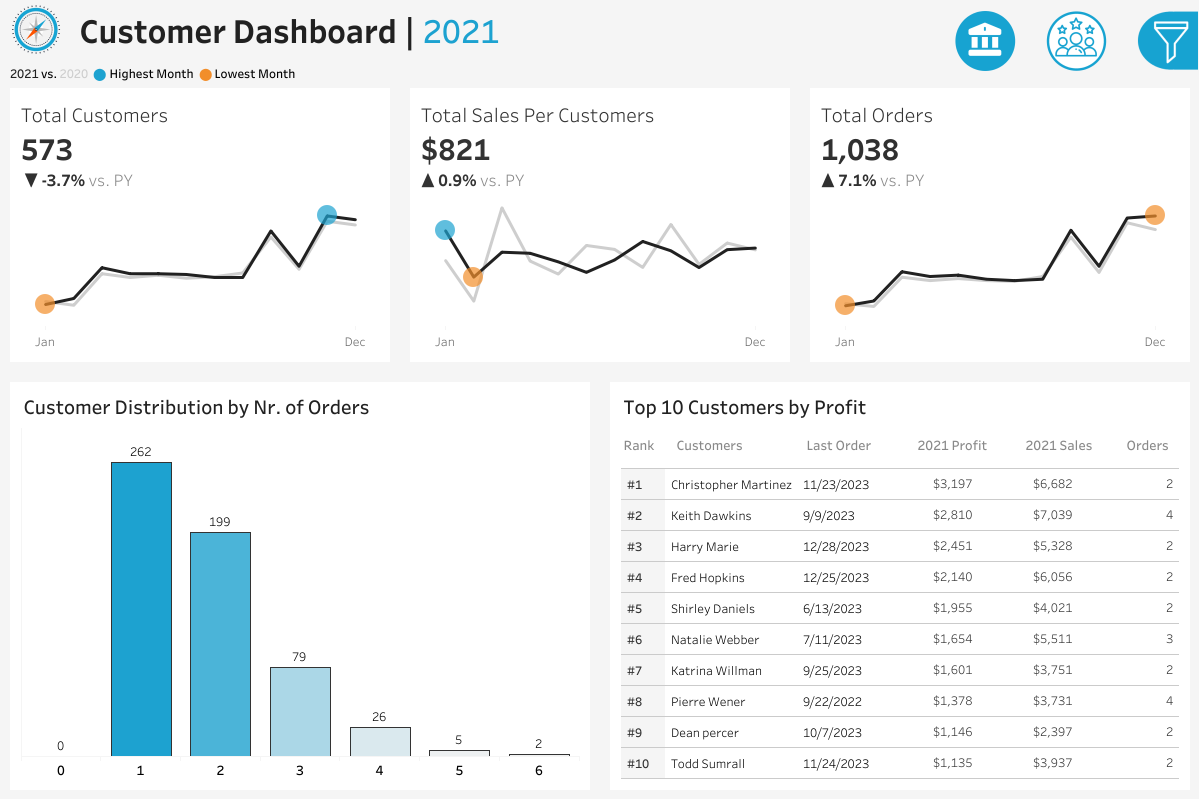

The page's visual inventory and layout, read from the dashboard file:
{"tool":"tableau","page":{"name":"Customer Dashboard","canvas":[1200,800],"ordinal":0},"visuals":[{"type":"image","param":"Image/Icon - Logo.png","box":[0,0,73,59]},{"type":"text","box":[73,0,820,59]},{"type":"dashboard-object","box":[940,6,91,70]},{"type":"dashboard-object","box":[1031,6,91,70]},{"type":"blank","box":[952,10,237,86]},{"type":"worksheet","title":"Legend KPI","mark":"Automatic","box":[0,59,1200,29]},{"type":"worksheet","title":"KPI Customers","mark":"Automatic","rows":["Min/Max Quantity (copy)_3221481164588691468"],"cols":["Order Date"],"box":[0,88,400,284]},{"type":"worksheet","title":"KPI Sales Per Customers","mark":"Automatic","rows":["Min/Max Quantity (copy)_3221481164537155591"],"cols":["Order Date"],"box":[400,88,400,284]},{"type":"worksheet","title":"KPI Orders","mark":"Automatic","rows":["Min/Max Sales (copy)_3221481164601258003"],"cols":["Order Date"],"box":[800,88,400,284]},{"type":"text","box":[952,96,237,34]},{"type":"parameter","param":"[Parameters].[Parameter 1]","box":[952,130,237,52]},{"type":"text","box":[952,182,237,29]},{"type":"filter","title":"KPI Customers","param":"[federated.1kpxa041aiai2y1cl4pui1t4eju9].[none:Category:nk]","box":[952,211,237,52]},{"type":"filter","title":"KPI Customers","param":"[federated.1kpxa041aiai2y1cl4pui1t4eju9].[none:Sub-Category:nk]","box":[952,263,237,52]},{"type":"blank","box":[952,315,237,60]},{"type":"text","box":[952,375,237,29]},{"type":"text","box":[17,389,566,34]},{"type":"text","box":[617,389,566,34]},{"type":"filter","title":"KPI Customers","param":"[federated.1kpxa041aiai2y1cl4pui1t4eju9].[none:Region:nk]","box":[952,404,237,52]},{"type":"worksheet","title":"Customer Distribution","mark":"Bar","rows":["CY Sales (copy)_3221481164532666369"],"cols":["Calculation_998110323739992064"],"box":[17,423,566,360]},{"type":"text","box":[617,423,53,40]},{"type":"text","box":[670,423,130,40]},{"type":"text","box":[800,423,111,40]},{"type":"text","box":[911,423,108,40]},{"type":"text","box":[1019,423,101,40]},{"type":"text","box":[1120,423,63,40]},{"type":"filter","title":"KPI Customers","param":"[federated.1kpxa041aiai2y1cl4pui1t4eju9].[none:State:nk]","box":[952,456,237,52]},{"type":"worksheet","title":"Top Customers","mark":"Automatic","rows":["Calculation_782500491678904334","Customer Name","Order Date"],"box":[617,463,566,320]},{"type":"filter","title":"KPI Customers","param":"[federated.1kpxa041aiai2y1cl4pui1t4eju9].[none:City:nk]","box":[952,508,237,52]}]}

Visuals, with their boxes in screenshot pixels (x1, y1, x2, y2), scaled from the page's 1200x800 canvas onto the 1199x799 screenshot:
image: <region>0, 0, 73, 59</region>
text: <region>73, 0, 892, 59</region>
dashboard-object: <region>939, 6, 1030, 76</region>
dashboard-object: <region>1030, 6, 1121, 76</region>
blank: <region>951, 10, 1188, 96</region>
"Legend KPI" worksheet: <region>0, 59, 1198, 88</region>
"KPI Customers" worksheet: <region>0, 88, 400, 372</region>
"KPI Sales Per Customers" worksheet: <region>400, 88, 799, 372</region>
"KPI Orders" worksheet: <region>799, 88, 1198, 372</region>
text: <region>951, 96, 1188, 130</region>
parameter: <region>951, 130, 1188, 182</region>
text: <region>951, 182, 1188, 211</region>
"KPI Customers" filter: <region>951, 211, 1188, 263</region>
"KPI Customers" filter: <region>951, 263, 1188, 315</region>
blank: <region>951, 315, 1188, 375</region>
text: <region>951, 375, 1188, 403</region>
text: <region>17, 389, 583, 422</region>
text: <region>616, 389, 1182, 422</region>
"KPI Customers" filter: <region>951, 403, 1188, 455</region>
"Customer Distribution" worksheet (Bar marks): <region>17, 422, 583, 782</region>
text: <region>616, 422, 669, 462</region>
text: <region>669, 422, 799, 462</region>
text: <region>799, 422, 910, 462</region>
text: <region>910, 422, 1018, 462</region>
text: <region>1018, 422, 1119, 462</region>
text: <region>1119, 422, 1182, 462</region>
"KPI Customers" filter: <region>951, 455, 1188, 507</region>
"Top Customers" worksheet: <region>616, 462, 1182, 782</region>
"KPI Customers" filter: <region>951, 507, 1188, 559</region>
